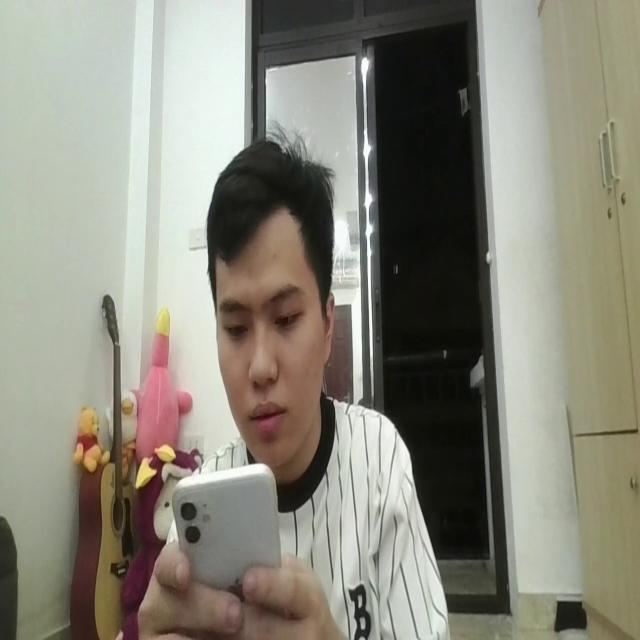phone: (171, 454, 282, 618)
student: (143, 122, 445, 640)
